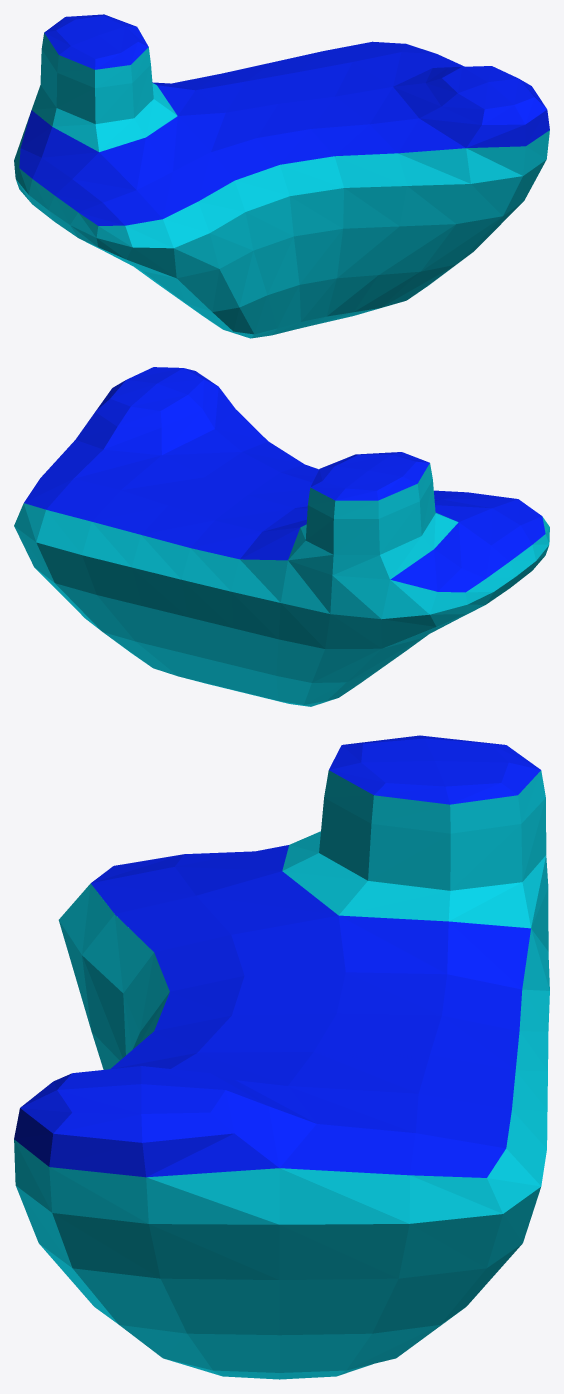
File: meowverse_island.glb
3 renders of one model, top to bottom at view 1: azimuth 30°, elevation 25°; view 2: azimuth 150°, elevation 25°; view 3: azimuth 270°, elevation 25°, orthographic. The views are drawn at different scales.
Parts seen in each view (by area): view 1: Cube.003; view 2: Cube.003; view 3: Cube.003.
Boxes of the visible parts, bbox=[...] form: Cube.003: bbox=[14, 14, 549, 338]; Cube.003: bbox=[14, 367, 549, 706]; Cube.003: bbox=[14, 735, 549, 1379].
Size of the model in its own units: 3.86 by 2.35 by 2.49.
